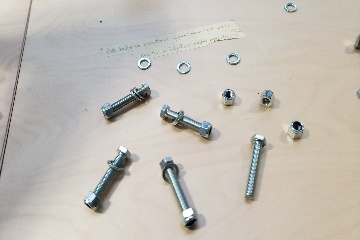Bolt: (241, 133, 268, 202)
FalseAssembly: (81, 144, 133, 212), (159, 154, 200, 229)
FinishedAssembly: (97, 80, 157, 118), (157, 103, 215, 141)
Nut: (286, 118, 306, 140), (220, 89, 238, 104), (261, 89, 275, 108)
Washer: (224, 52, 244, 68), (135, 57, 153, 71), (176, 61, 191, 75), (284, 2, 297, 12)
